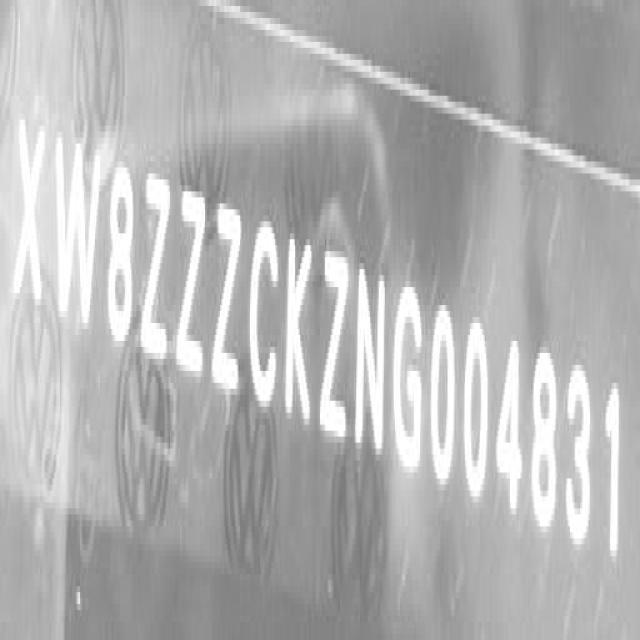0: (461, 310, 492, 516), (427, 297, 458, 497)
1: (603, 372, 623, 572)
3: (564, 353, 595, 557)
4: (496, 333, 526, 529)
8: (529, 338, 560, 539), (107, 150, 137, 354)
C: (249, 212, 282, 422)
G: (392, 275, 427, 486)
K: (284, 222, 314, 438)
N: (352, 262, 388, 468)
W: (50, 120, 103, 338)
X: (12, 108, 48, 318)
Z: (318, 236, 351, 454), (138, 161, 171, 369), (211, 199, 243, 408), (178, 174, 208, 385)
